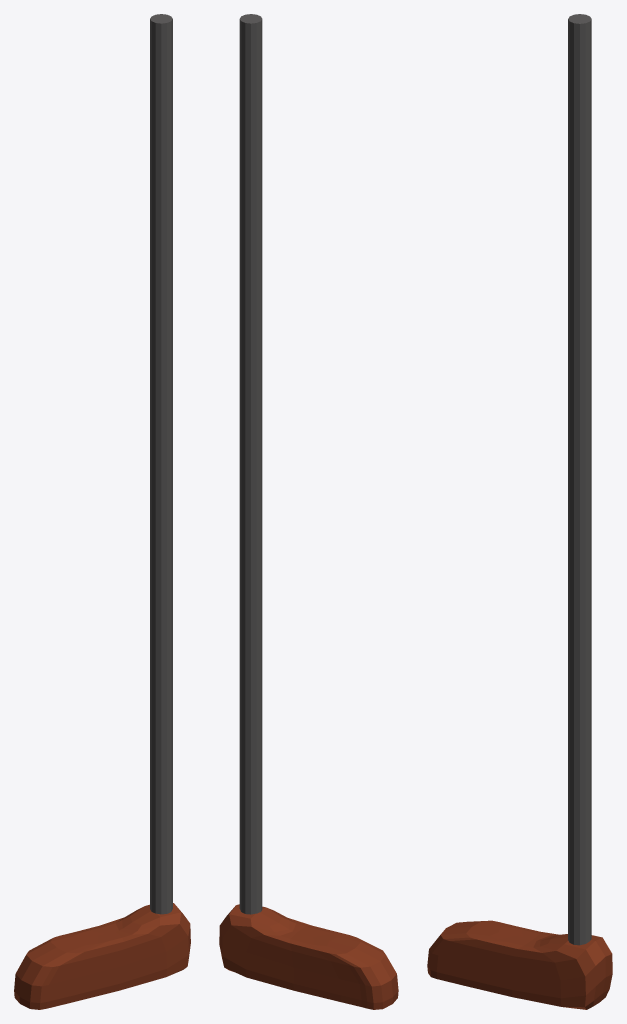
Rendered from Crosa.fbx.
3 renders of one model, left to right at view 1: azimuth 30°, elevation 25°; view 2: azimuth 150°, elevation 25°; view 3: azimuth 330°, elevation 25°, orthographic. The views are drawn at different scales.
Parts seen in each view (by area): view 1: Crosa; view 2: Crosa; view 3: Crosa.
Boxes of the visible parts, x1,y1,x2,y2 form: Crosa: (14, 14, 190, 1009); Crosa: (219, 14, 398, 1009); Crosa: (427, 14, 612, 1009).
Size of the model in its own units: 0.0606 by 0.3329 by 0.0155.
